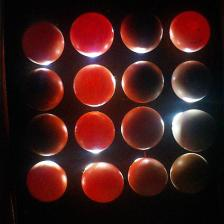fertile: (171, 109, 218, 152), (120, 9, 164, 54), (20, 67, 64, 112), (120, 105, 164, 150), (24, 113, 68, 157), (121, 60, 164, 104), (170, 153, 212, 197), (171, 60, 210, 103), (128, 157, 168, 197)
infertile: (69, 12, 114, 58), (21, 21, 65, 66), (168, 10, 211, 54), (72, 64, 116, 107), (81, 162, 125, 203), (74, 111, 116, 153), (27, 160, 68, 203)
